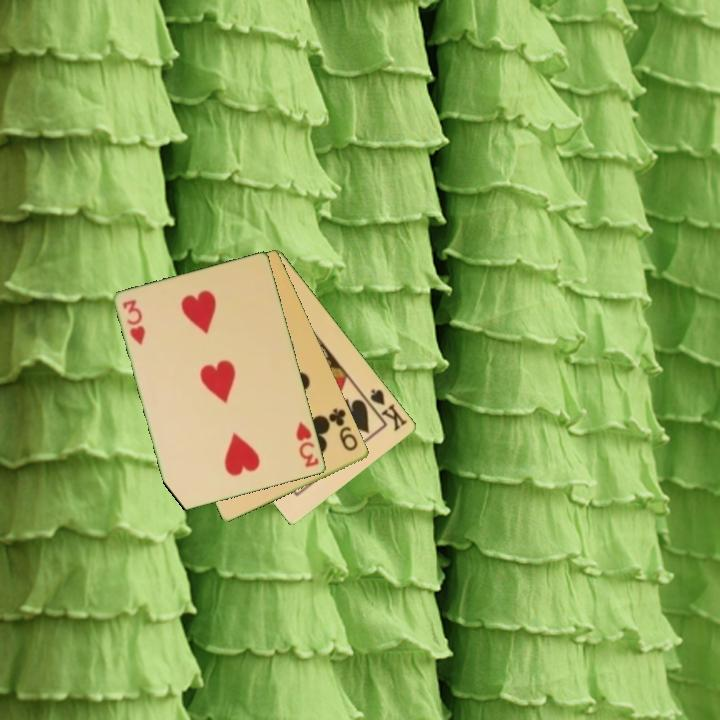3h: (293, 418, 322, 470), (119, 296, 148, 348)
9c: (325, 404, 361, 454)
Ks: (361, 385, 411, 434)
